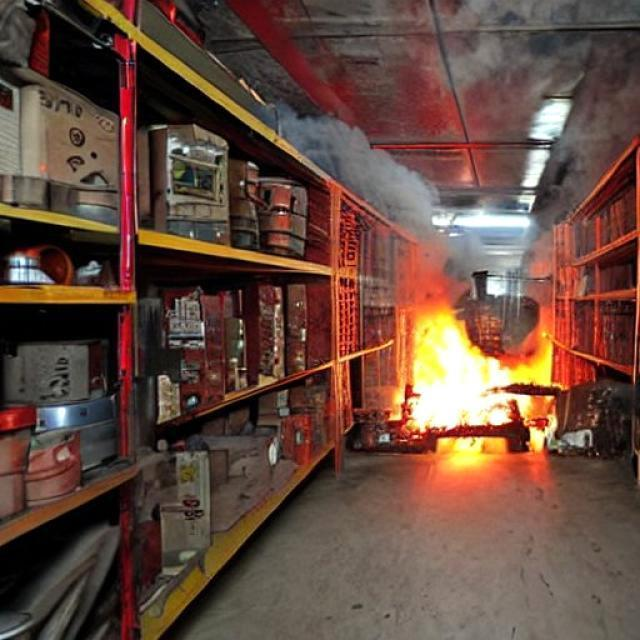Fire: (394, 309, 561, 449)
Smoke: (298, 114, 452, 242)
